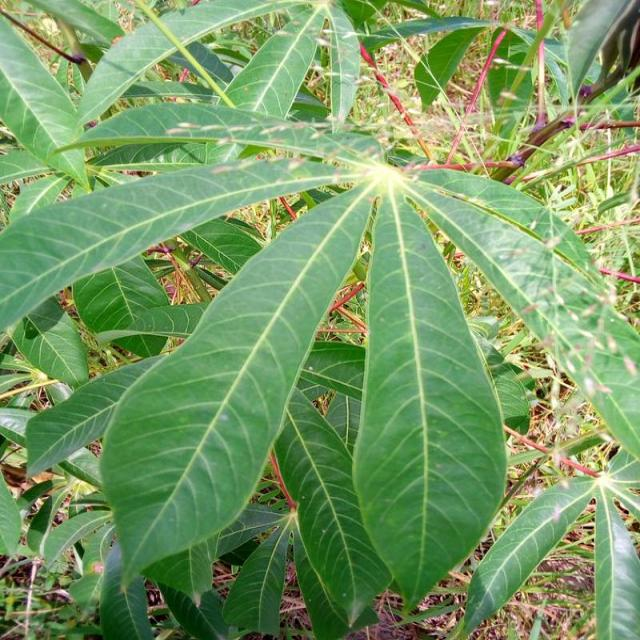cassava leaf: (1, 1, 638, 637), (98, 176, 375, 593), (350, 178, 508, 613)
